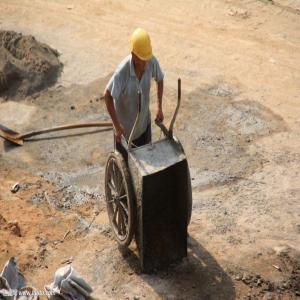yellow: (129, 27, 154, 72)
